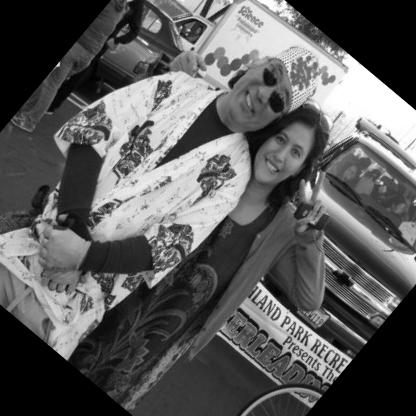car: (235, 93, 416, 345)
